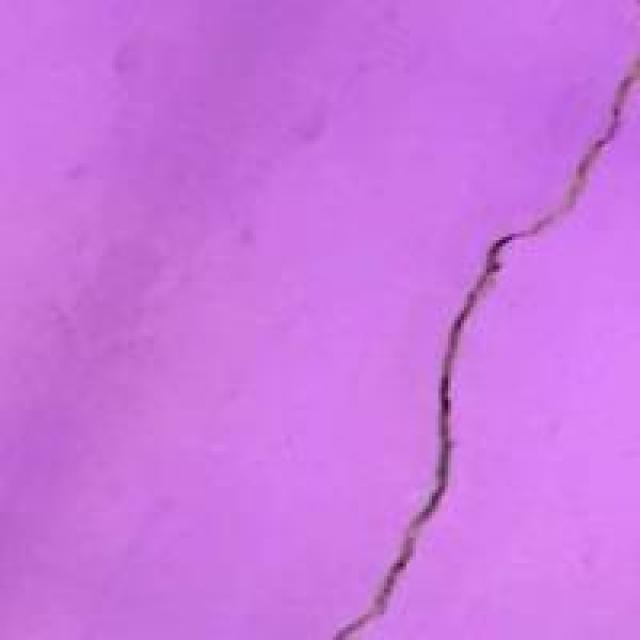Crack: (320, 48, 637, 637)
